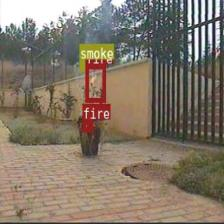fire: (85, 64, 105, 101), (82, 119, 92, 131)
smoke: (79, 59, 84, 71)
